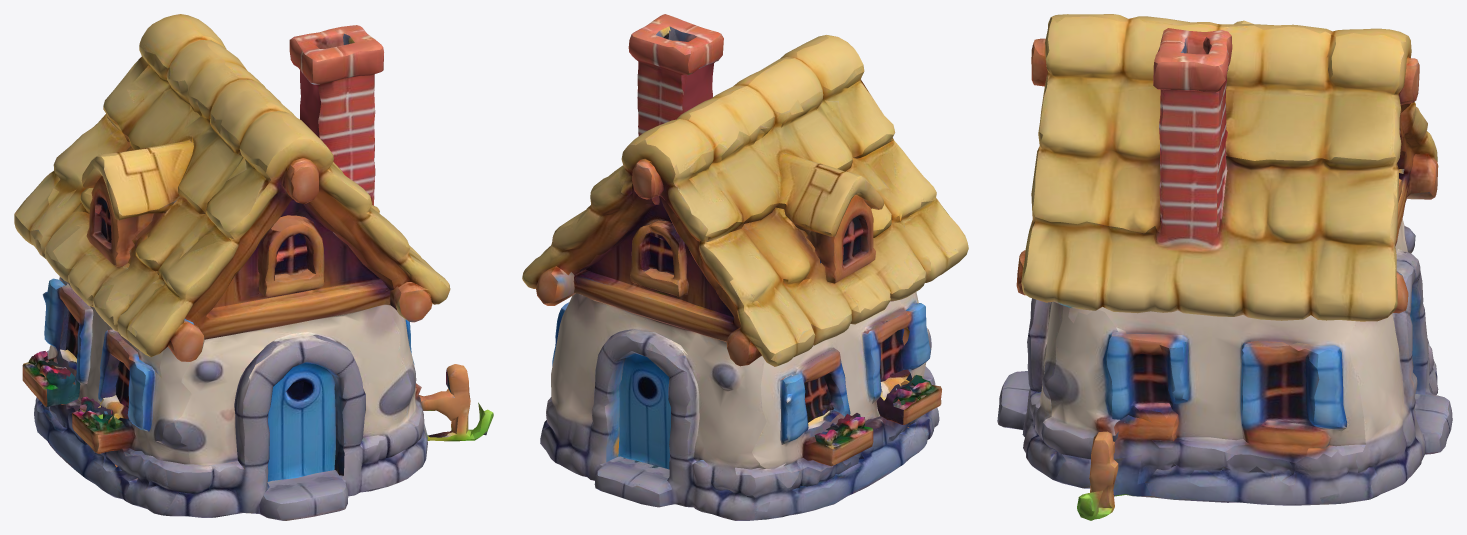
File: cottage_a.glb
3 renders of one model, left to right at view 1: azimuth 30°, elevation 25°; view 2: azimuth 150°, elevation 25°; view 3: azimuth 270°, elevation 25°, orthographic. The views are drawn at different scales.
Parts seen in each view (by area): view 1: cottage_a_s15; view 2: cottage_a_s15; view 3: cottage_a_s15.
Boxes of the visible parts, bbox=[...] form: cottage_a_s15: bbox=[14, 14, 493, 520]; cottage_a_s15: bbox=[522, 14, 968, 520]; cottage_a_s15: bbox=[997, 14, 1452, 520].
Bounding box in the file's own units: 0.9884 × 1 × 0.97.
1 material, 1 textured.
